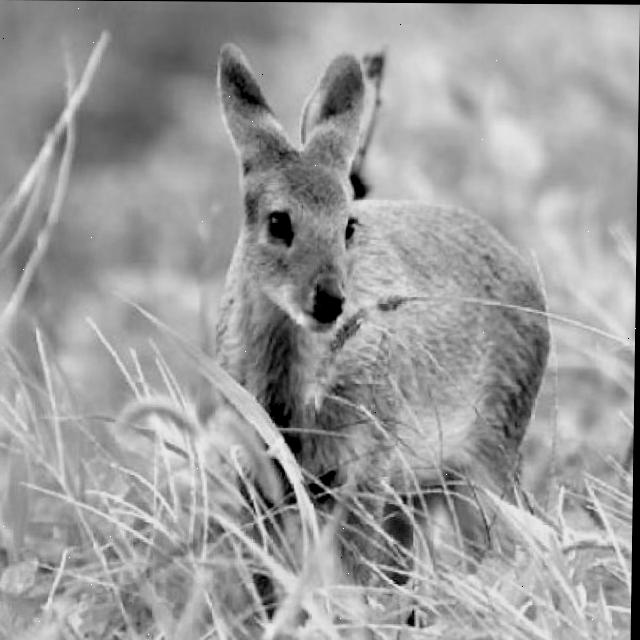Deer: (203, 42, 560, 576)
